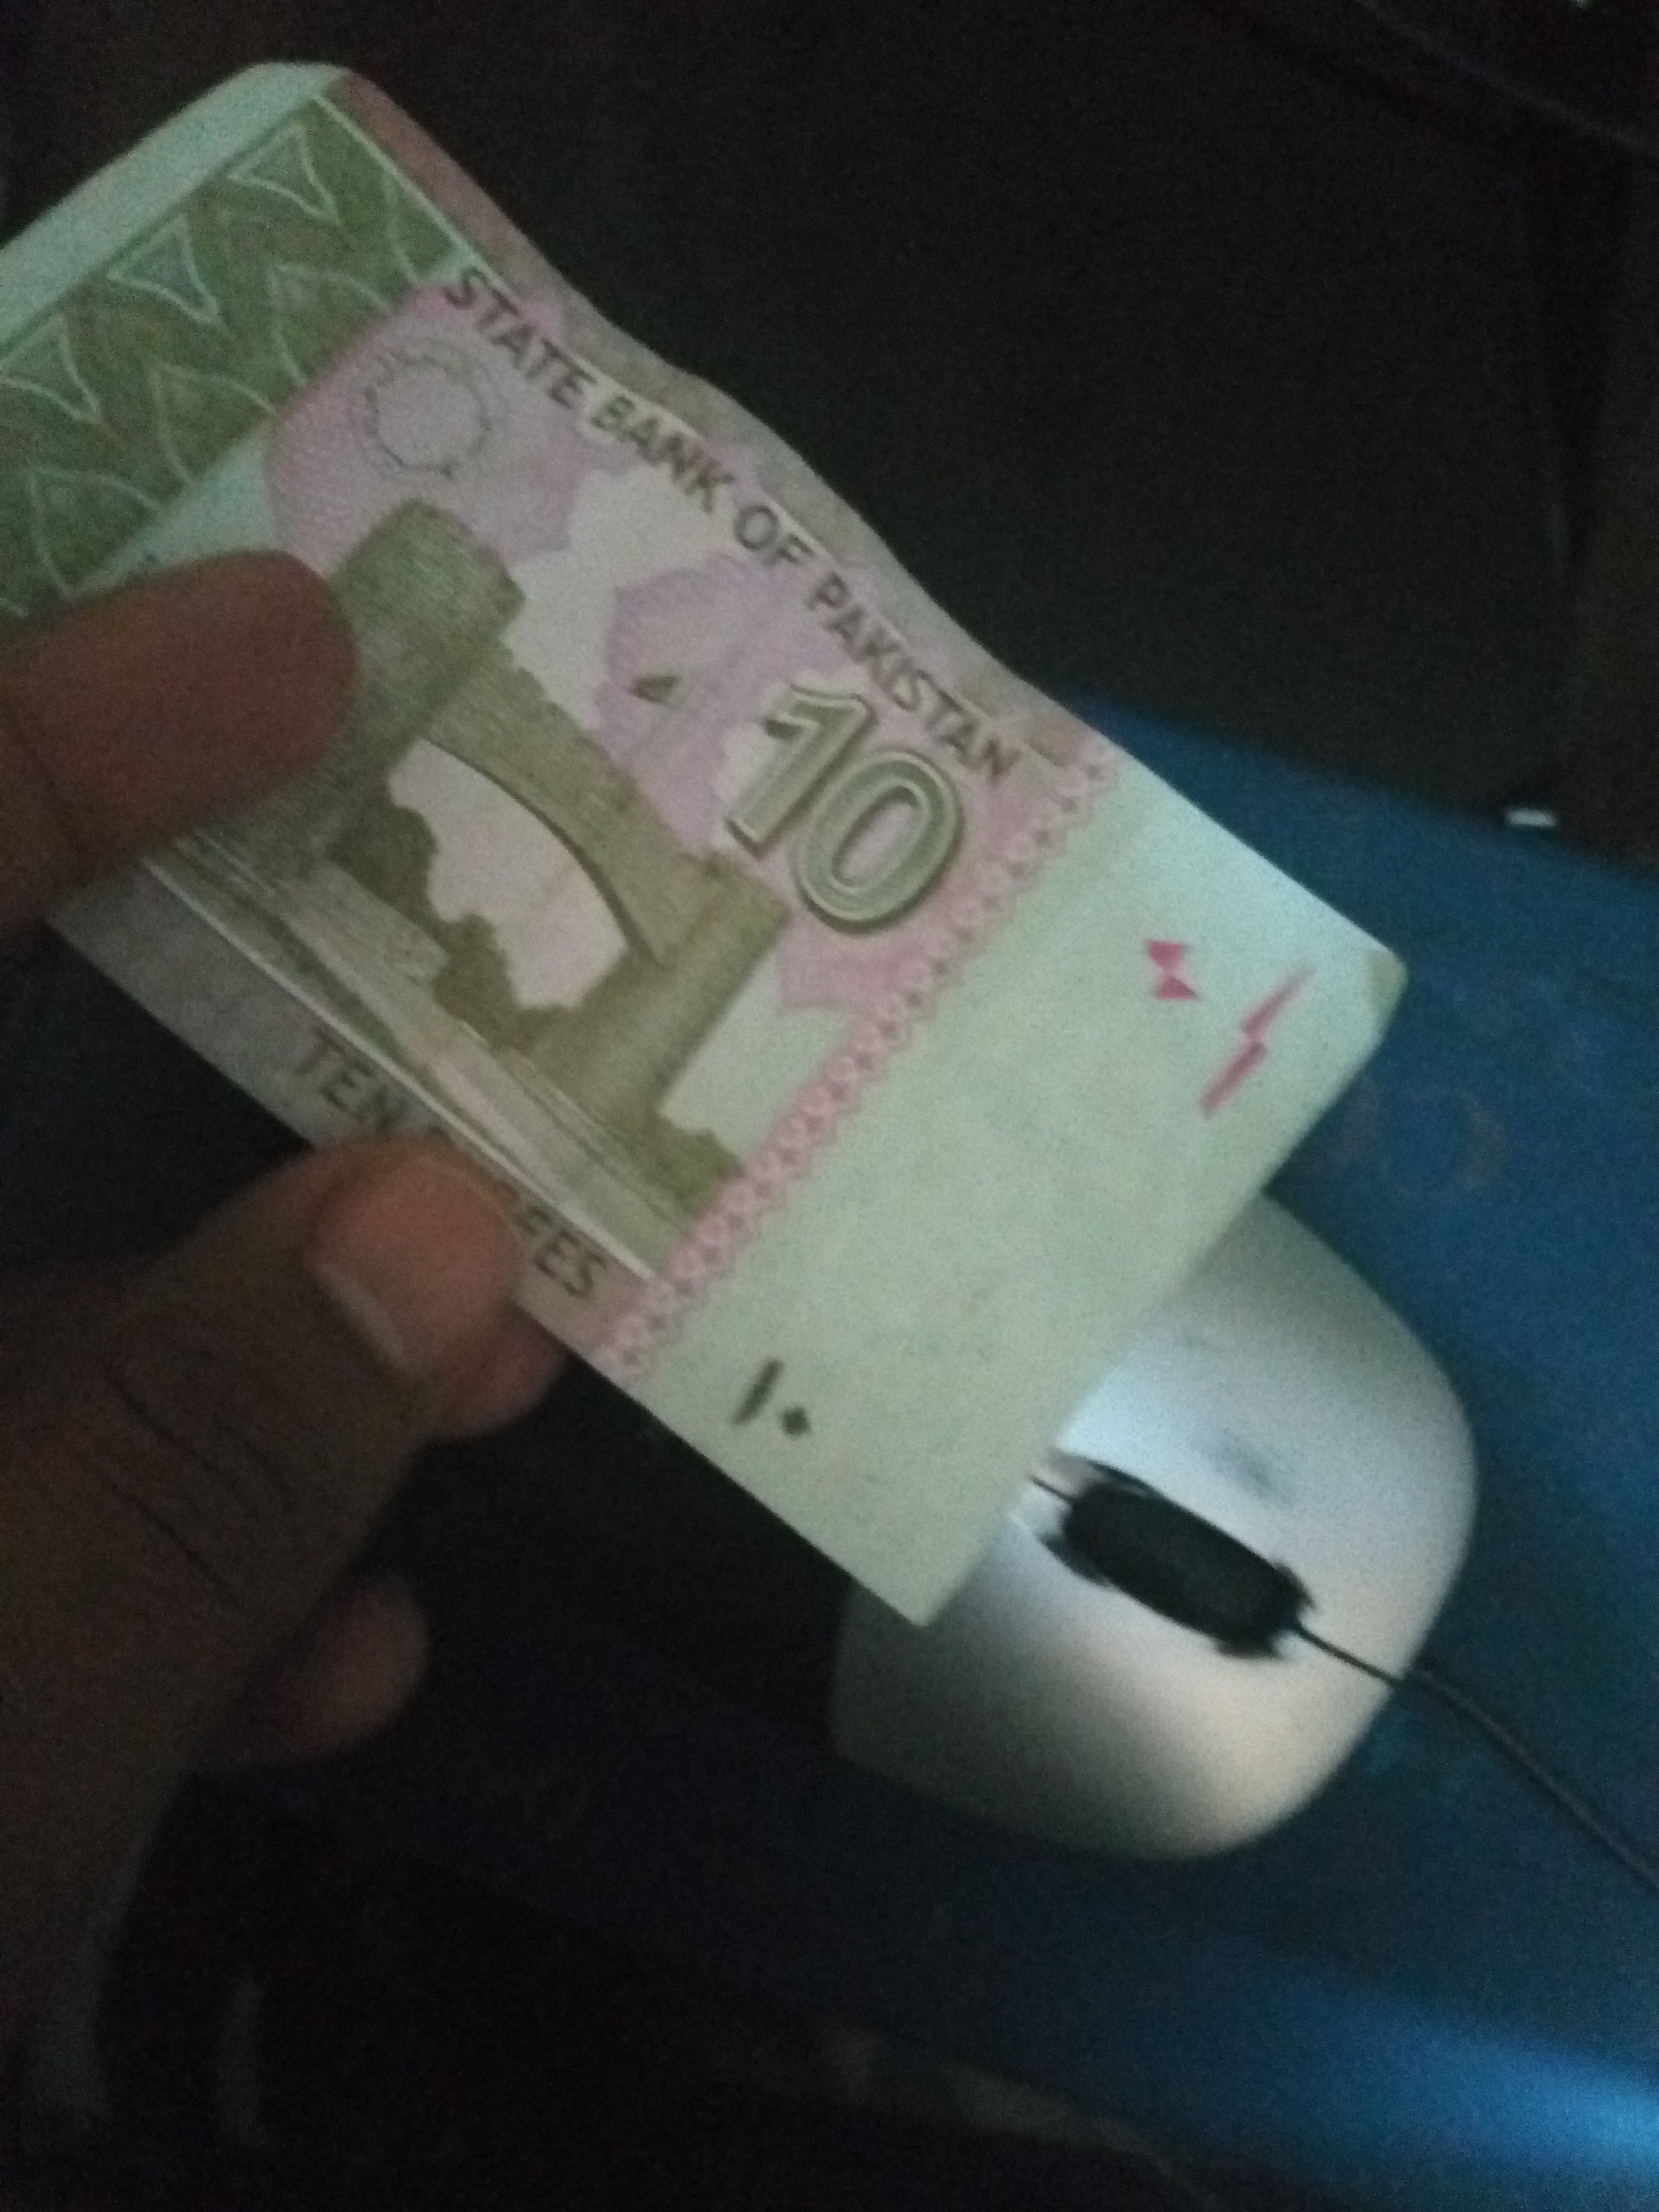10 rupee: (38, 85, 1405, 1737)
